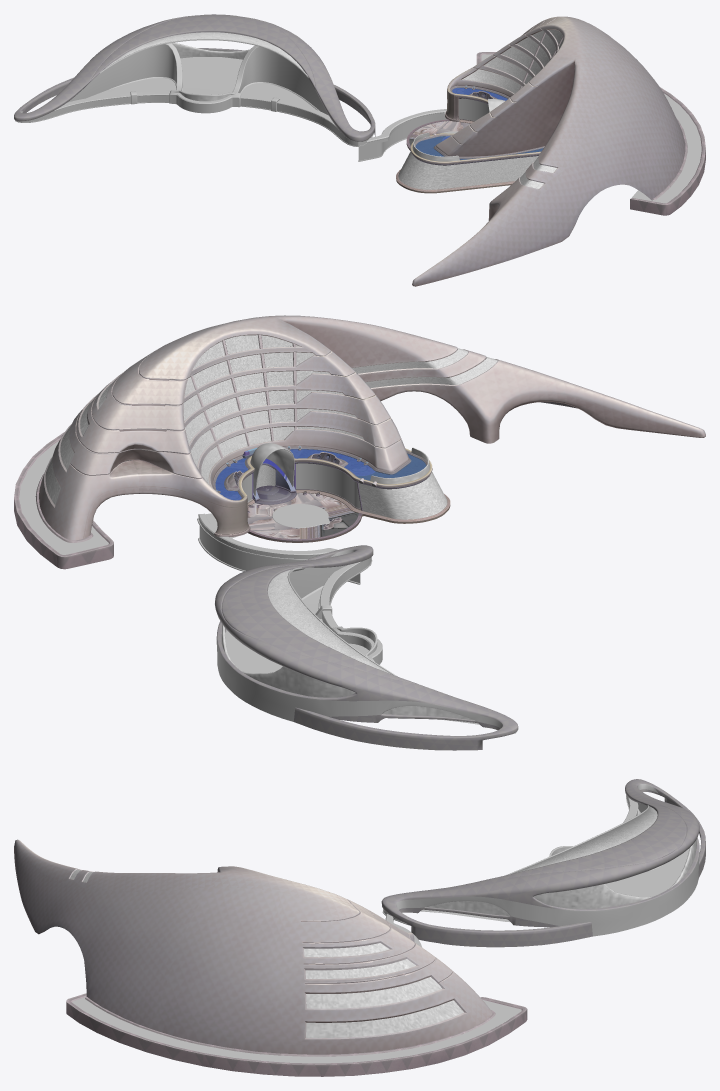
Rendered from pref_Area02_Small_Red_Base_lv3.fbx.
3 renders of one model, top to bottom at view 1: azimuth 30°, elevation 25°; view 2: azimuth 150°, elevation 25°; view 3: azimuth 270°, elevation 25°, orthographic. The views are drawn at different scales.
Visible parts, largest first — view 1: sm_beach_techborn01a_lv3, sm_beach_techpagoda01_d_lv3, sm_beach_techborn05a_lv3, sm_beach_techpagoda01_e_lv3, sm_beach_techpagoda01_c_lv3, sm_beach_techpagoda01_b_lv3, sm_beach_techpagoda01_a_lv3, sm_beach_techborn06a_lv3, pref_sm_beach_techborn01_e_02_lv3, sm_beach_techborn04a_lv3; view 2: sm_beach_techborn01a_lv3, sm_beach_techborn05a_lv3, sm_beach_techpagoda01_c_lv3, sm_beach_techpagoda01_a_lv3, sm_beach_techpagoda01_d_lv3, sm_beach_techpagoda01_e_lv3, sm_beach_techpagoda01_b_lv3, pref_sm_beach_techborn01_e_02_lv3, sm_beach_techborn06a_lv3, sm_beach_techborn04a_lv3, pref_sm_beach_techborn02_lv3; view 3: sm_beach_techborn01a_lv3, sm_beach_techpagoda01_b_lv3, sm_beach_techborn05a_lv3, sm_beach_techpagoda01_d_lv3, sm_beach_techpagoda01_a_lv3, sm_beach_techborn06a_lv3, sm_beach_techpagoda01_c_lv3, sm_beach_techpagoda01_e_lv3.
Part boxes in pixels (bbox=[...]): sm_beach_techborn01a_lv3: bbox=[396, 16, 705, 286]; sm_beach_techpagoda01_d_lv3: bbox=[87, 39, 373, 146]; sm_beach_techborn05a_lv3: bbox=[398, 29, 563, 189]; sm_beach_techpagoda01_e_lv3: bbox=[15, 39, 221, 122]; sm_beach_techpagoda01_c_lv3: bbox=[14, 14, 228, 121]; sm_beach_techpagoda01_b_lv3: bbox=[221, 15, 375, 141]; sm_beach_techpagoda01_a_lv3: bbox=[106, 32, 304, 101]; sm_beach_techborn06a_lv3: bbox=[481, 54, 701, 203]; pref_sm_beach_techborn01_e_02_lv3: bbox=[358, 109, 447, 161]; sm_beach_techborn04a_lv3: bbox=[458, 98, 489, 120]; sm_beach_techborn01a_lv3: bbox=[14, 315, 705, 569]; sm_beach_techborn05a_lv3: bbox=[45, 335, 497, 519]; sm_beach_techpagoda01_c_lv3: bbox=[223, 608, 518, 750]; sm_beach_techpagoda01_a_lv3: bbox=[221, 568, 473, 720]; sm_beach_techpagoda01_d_lv3: bbox=[216, 549, 382, 688]; sm_beach_techpagoda01_e_lv3: bbox=[229, 605, 516, 734]; sm_beach_techpagoda01_b_lv3: bbox=[215, 545, 373, 660]; pref_sm_beach_techborn01_e_02_lv3: bbox=[197, 513, 360, 584]; sm_beach_techborn06a_lv3: bbox=[19, 440, 108, 554]; sm_beach_techborn04a_lv3: bbox=[242, 463, 360, 508]; pref_sm_beach_techborn02_lv3: bbox=[272, 504, 330, 527]; sm_beach_techborn01a_lv3: bbox=[14, 839, 527, 1076]; sm_beach_techpagoda01_b_lv3: bbox=[381, 842, 663, 947]; sm_beach_techborn05a_lv3: bbox=[70, 869, 463, 1037]; sm_beach_techpagoda01_d_lv3: bbox=[382, 810, 689, 936]; sm_beach_techpagoda01_a_lv3: bbox=[426, 806, 697, 915]; sm_beach_techborn06a_lv3: bbox=[72, 997, 521, 1063]; sm_beach_techpagoda01_c_lv3: bbox=[625, 779, 705, 895]; sm_beach_techpagoda01_e_lv3: bbox=[608, 784, 699, 914].
Bounding box in the file's own units: 73.92 × 17.41 × 75.7.
